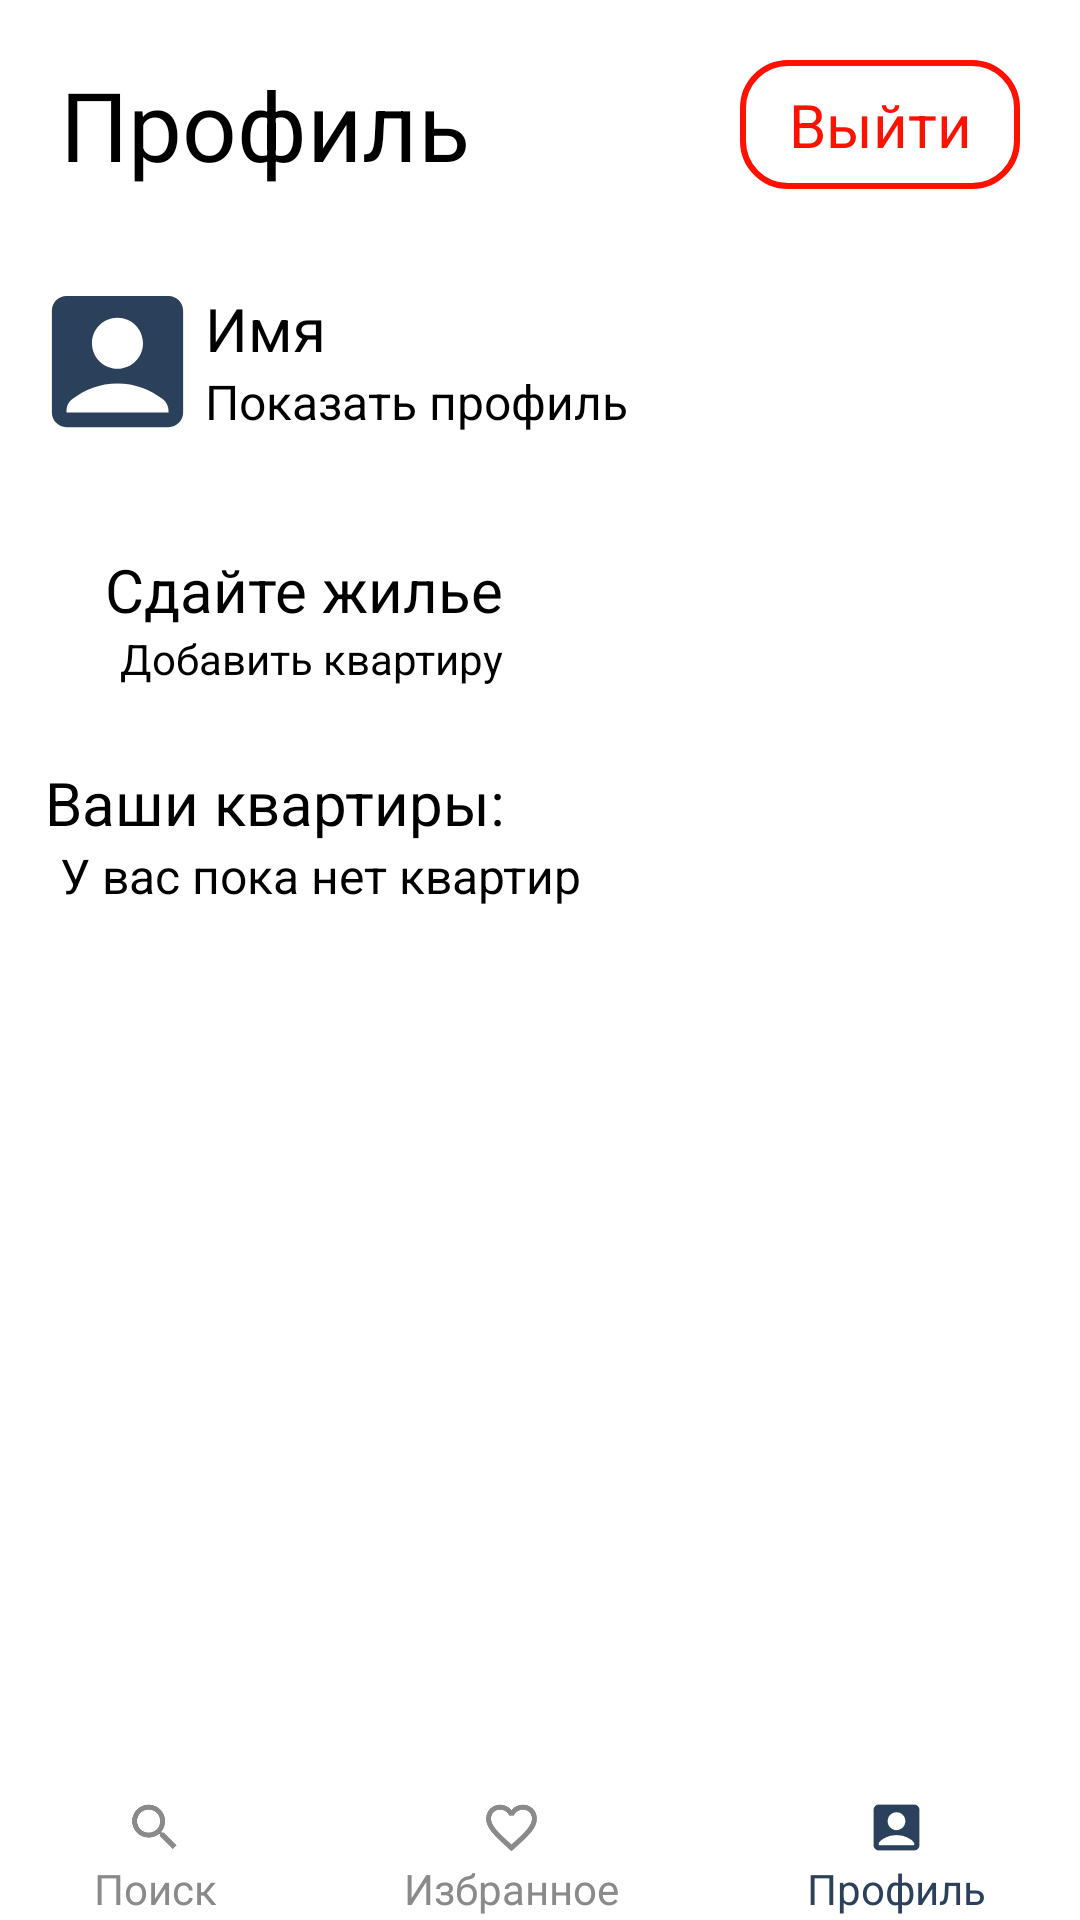

Screen size 1080*1920. Icon name, then its center in pixels as [x,y]:
account box: [117,362], [896,1827]
favorite border: [511,1827]
